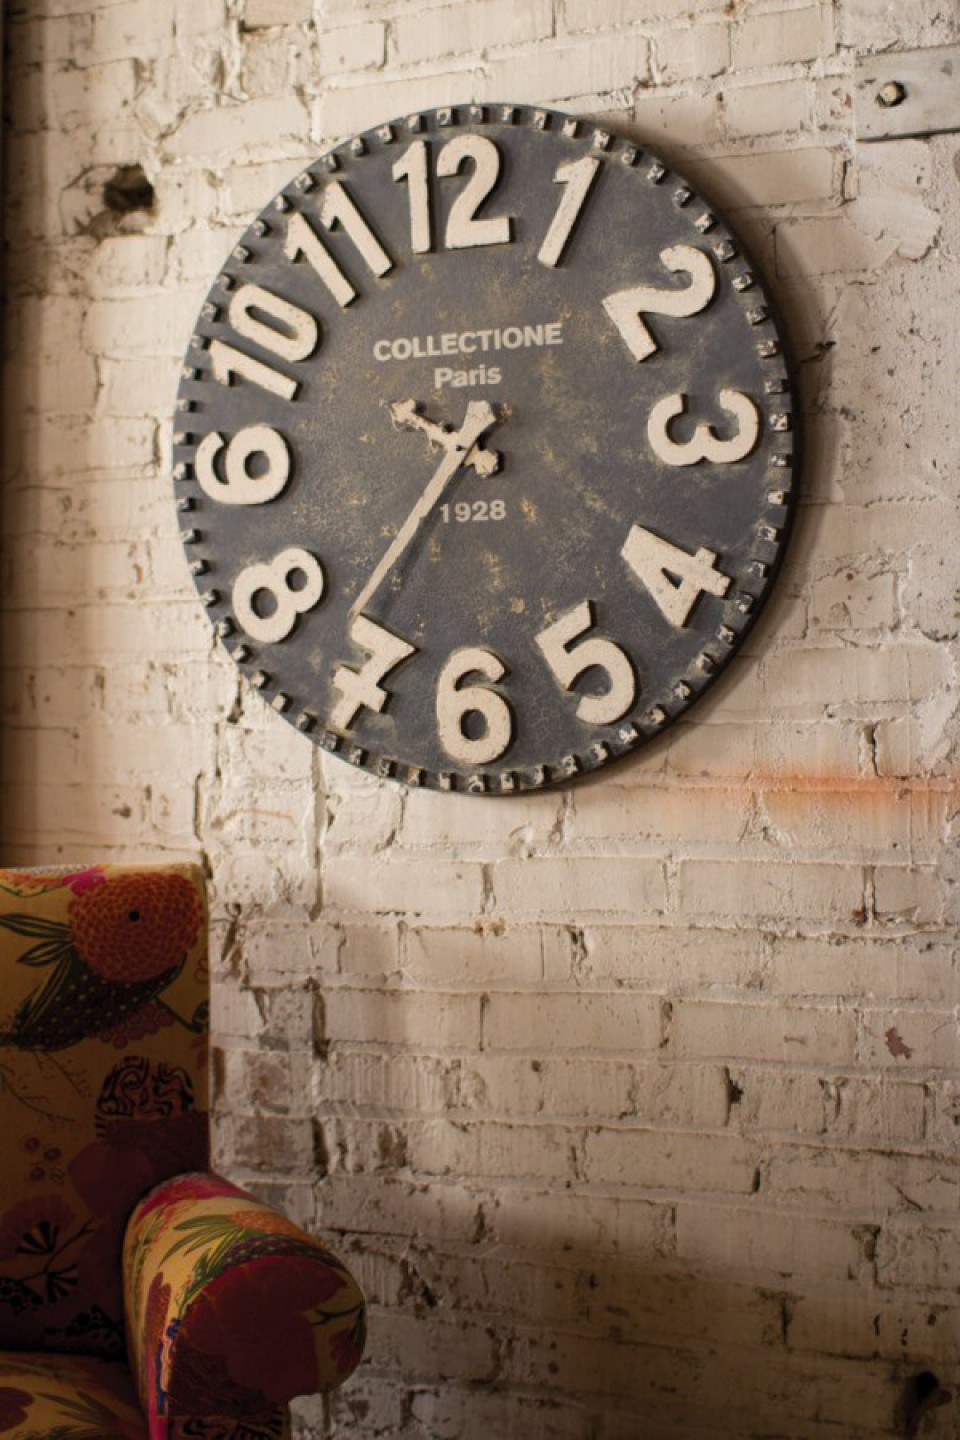jam dinding: (122, 89, 853, 856)
